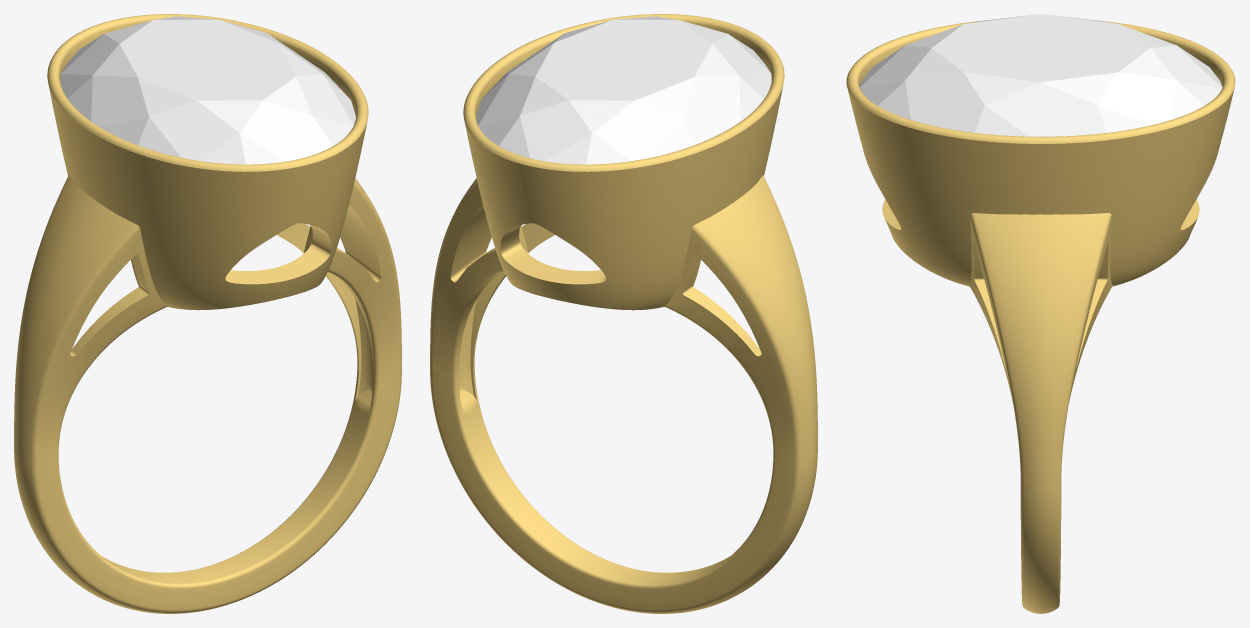
File: AthenaYG_webgi.glb
3 renders of one model, left to right at view 1: azimuth 30°, elevation 25°; view 2: azimuth 150°, elevation 25°; view 3: azimuth 270°, elevation 25°, orthographic.
Visible parts, largest first — view 1: Athena_YG_for_3d_model, Athena_citrine_for_3d_model; view 2: Athena_YG_for_3d_model, Athena_citrine_for_3d_model; view 3: Athena_YG_for_3d_model, Athena_citrine_for_3d_model.
Part boxes in pixels (box(x1,y1,x2,y2)): Athena_YG_for_3d_model: box(14, 14, 401, 613); Athena_citrine_for_3d_model: box(60, 16, 355, 164); Athena_YG_for_3d_model: box(430, 14, 817, 613); Athena_citrine_for_3d_model: box(476, 16, 771, 164); Athena_YG_for_3d_model: box(846, 20, 1235, 613); Athena_citrine_for_3d_model: box(859, 14, 1222, 136).
Bounding box in the file's own units: 2.08 × 2.87 × 1.85.
